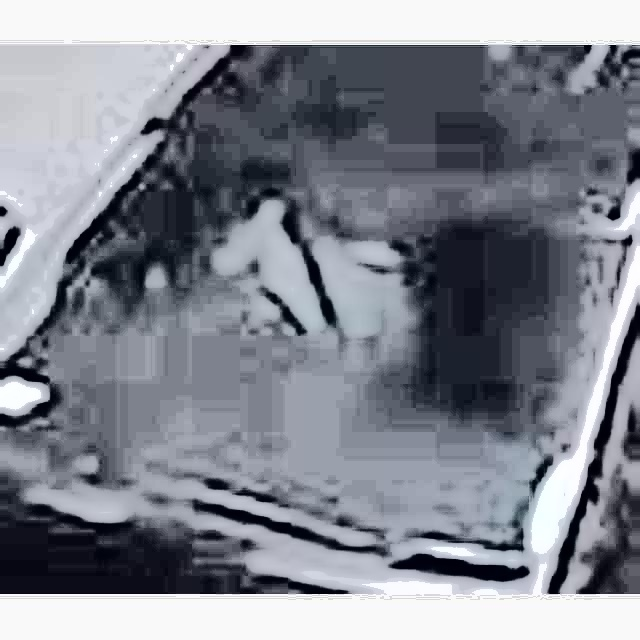pakai: (187, 160, 483, 377)
